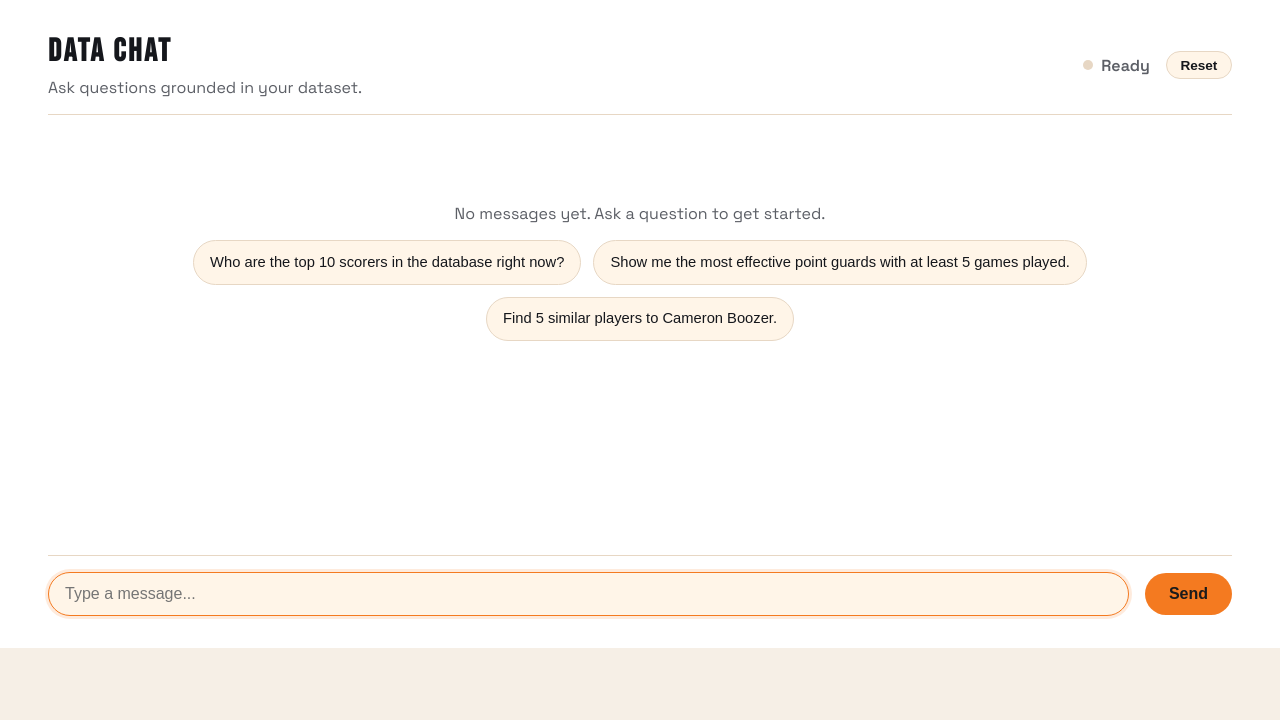
Scenario: Chat › loads startup suggestions and populates the input when clicked
Click the button "Who are the top 10 scorers in the database right now?" at (387, 262), box [193,240,581,285]
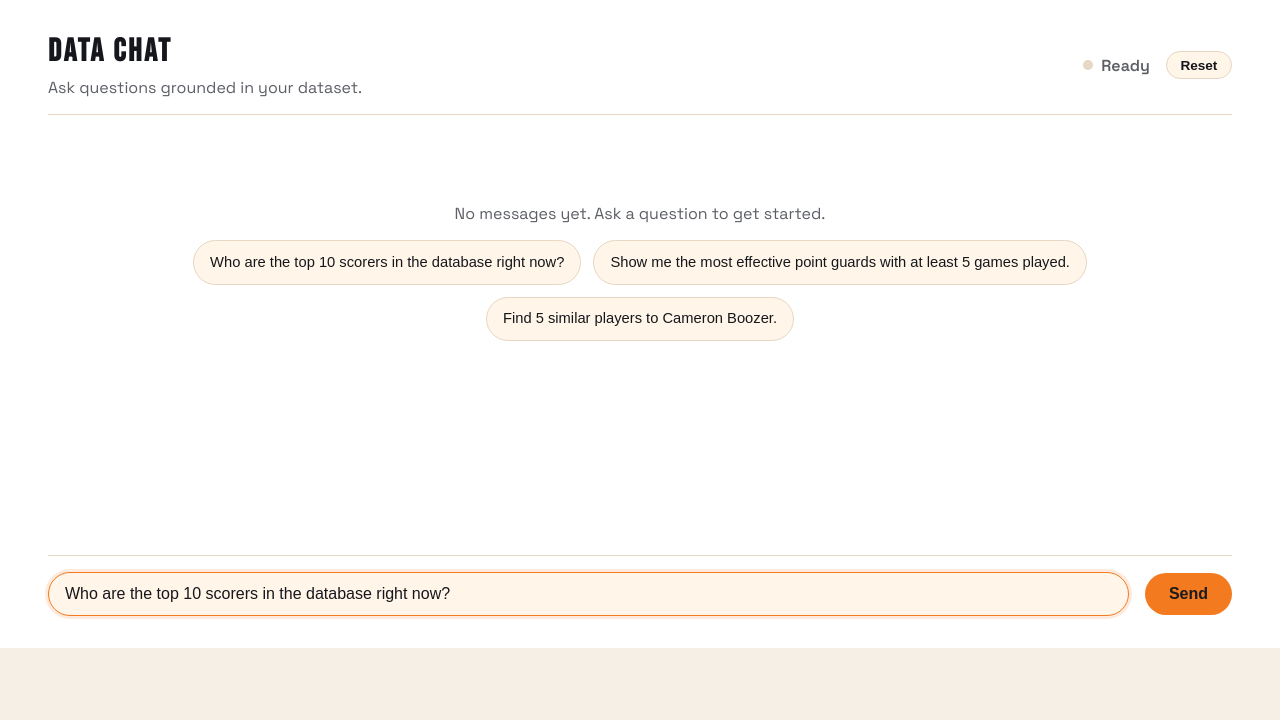
expect the field with placeholder "Type a message..." holds "Who are the top 10 scorers in the database right now?": met, box [48,572,1129,616]
